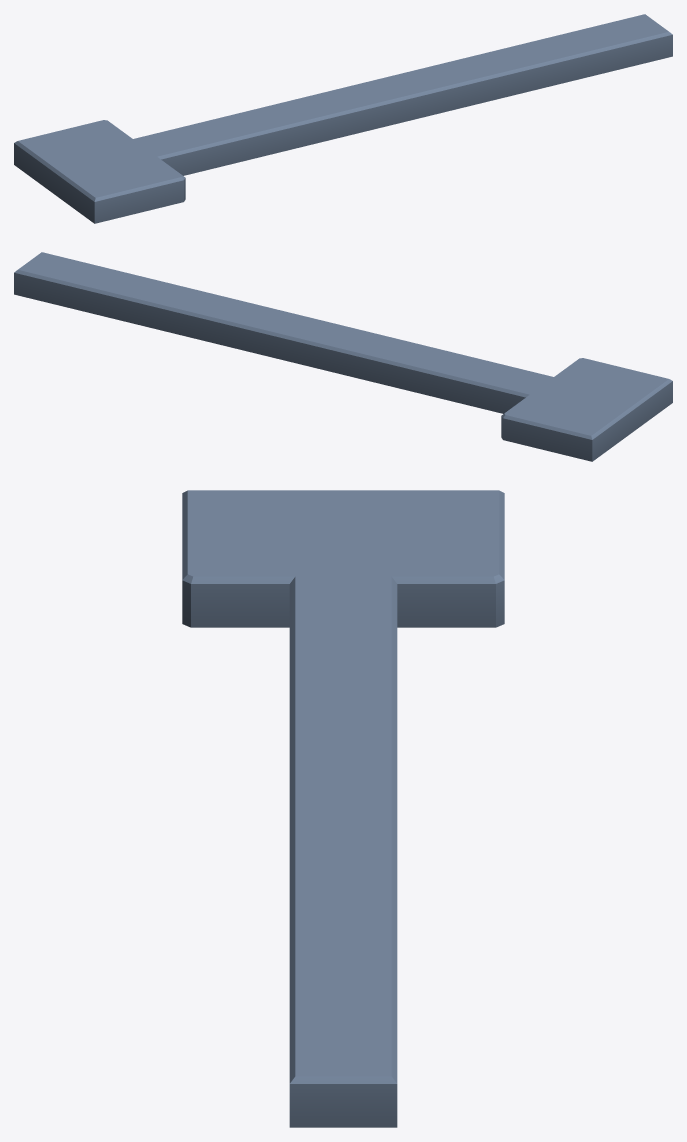
Rendered from platform.fbx.
3 views of the same model, one above another, from view 1: azimuth 30°, elevation 25°; view 2: azimuth 150°, elevation 25°; view 3: azimuth 270°, elevation 25° (orthographic). The views are drawn at different scales.
Parts seen in each view (by area): view 1: platform-cement; view 2: platform-cement; view 3: platform-cement.
Part boxes in pixels (x1,y1,x2,y2): platform-cement: (14,14,672,223); platform-cement: (14,252,672,461); platform-cement: (182,490,504,1127).
Size of the model in its own units: 26 by 6 by 1.
